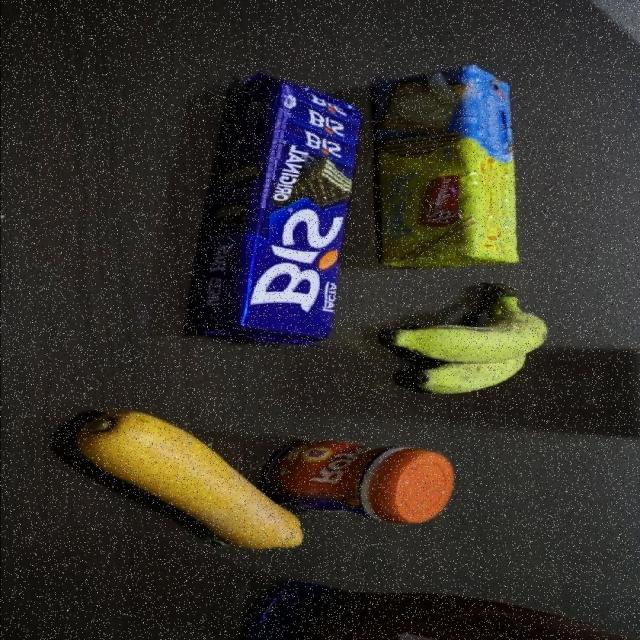Banana: (378, 282, 550, 396)
Carrot: (68, 409, 307, 551)
Cracker: (368, 63, 521, 271)
Ketchup: (241, 578, 640, 640)
Yeast: (262, 439, 457, 525)
